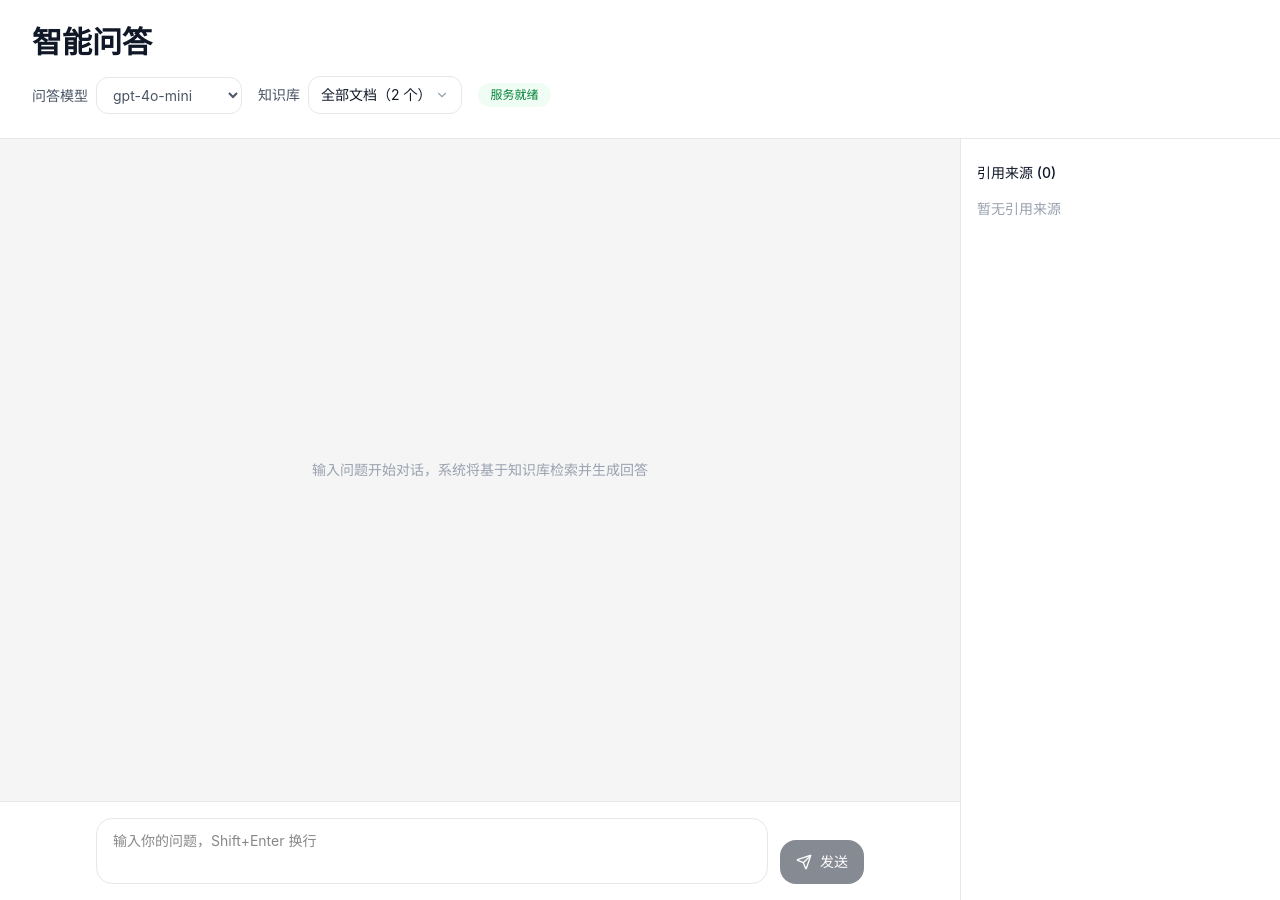
Test: ChatPage › 问答成功时展示回答与引用来源
Expected: the button "全部文档（2 个）" is shown, top-left (308, 76), bottom-right (462, 114)
Type "什么是 RAG？" into the text box with placeholder "输入你的问题，Shift+Enter 换行" at point(432, 851), box top-left (96, 818), bottom-right (768, 884)
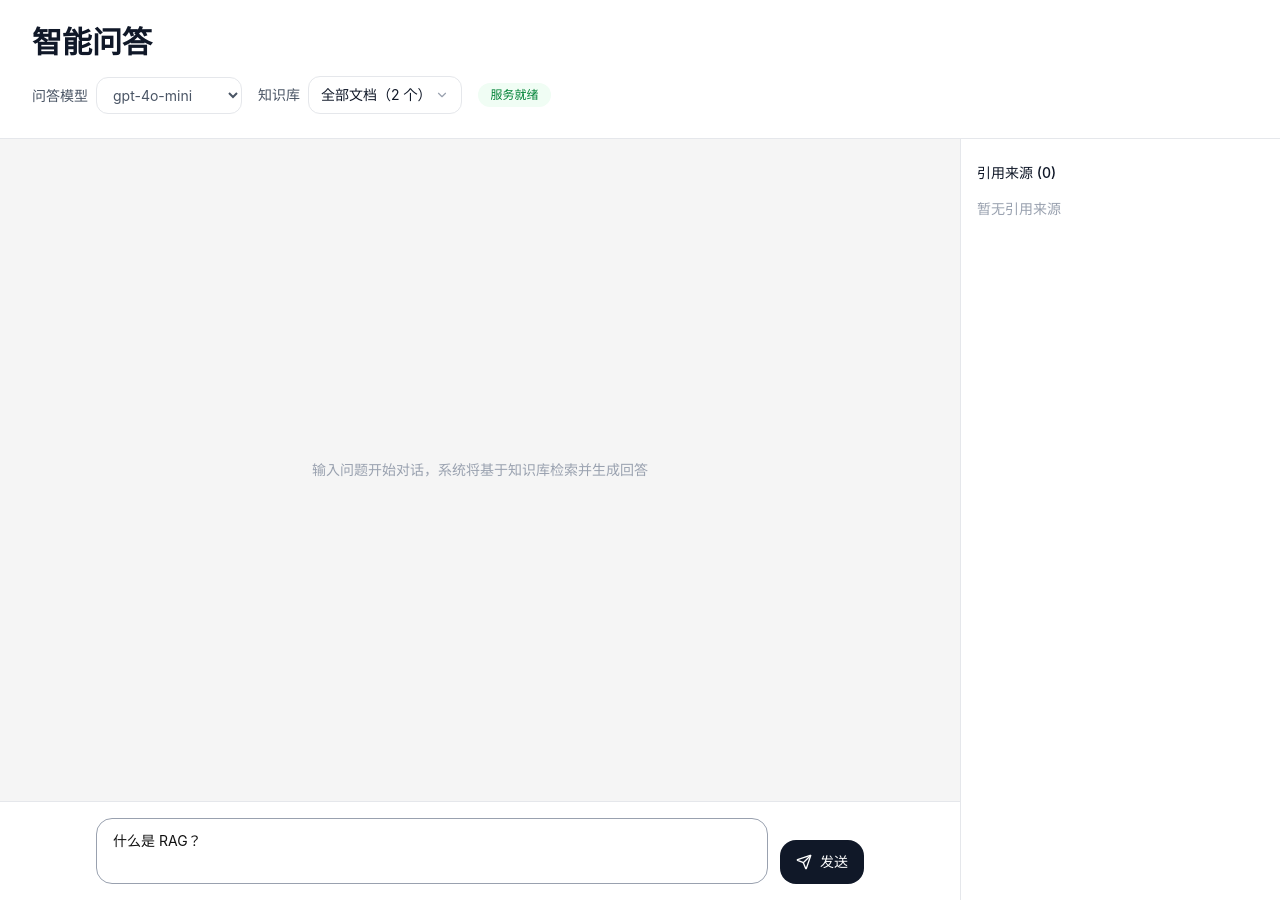
Click the button "发送" at point(822, 862), box top-left (780, 840), bottom-right (864, 884)
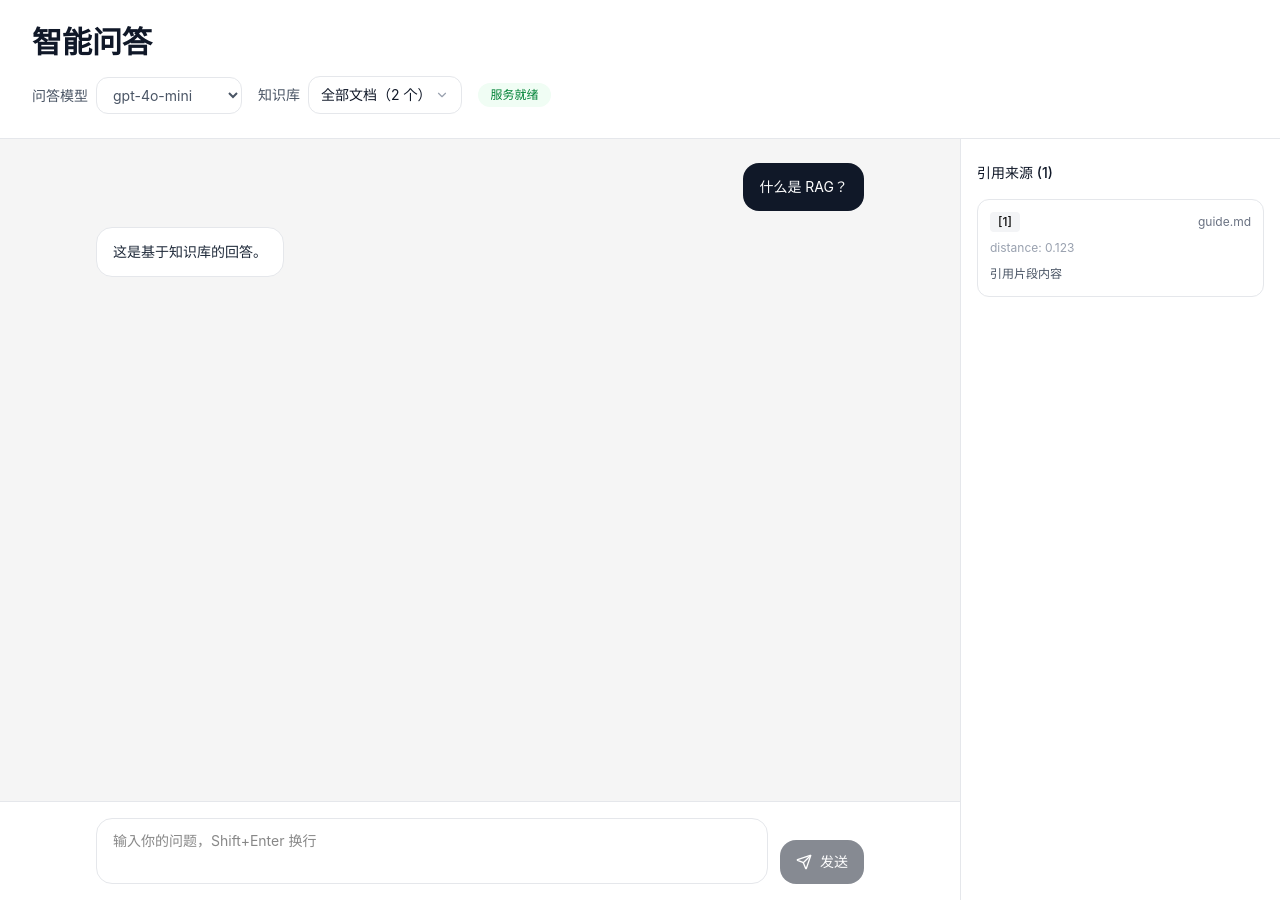
Now the text "这是基于知识库的回答。" is shown, box top-left (113, 240), bottom-right (267, 264)
Now the heading "引用来源 (1)" is shown, box top-left (977, 164), bottom-right (1053, 181)
Now the text "引用片段内容" is shown, box top-left (990, 266), bottom-right (1062, 281)
